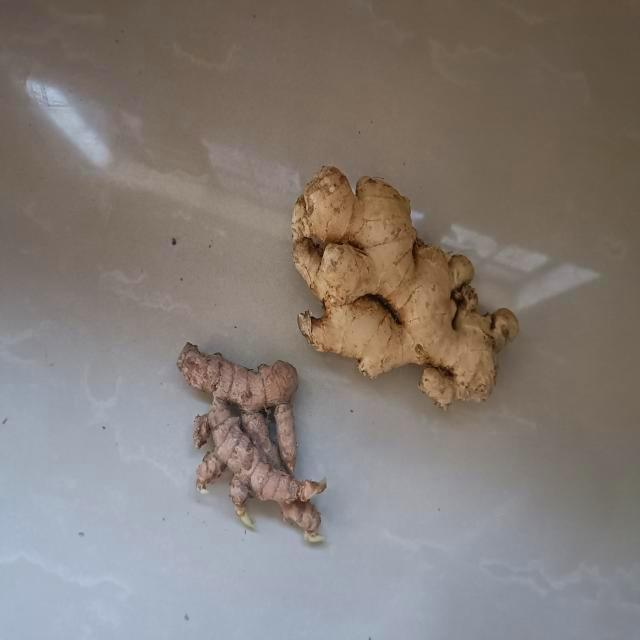ginger: (293, 162, 519, 412), (177, 342, 325, 548)
